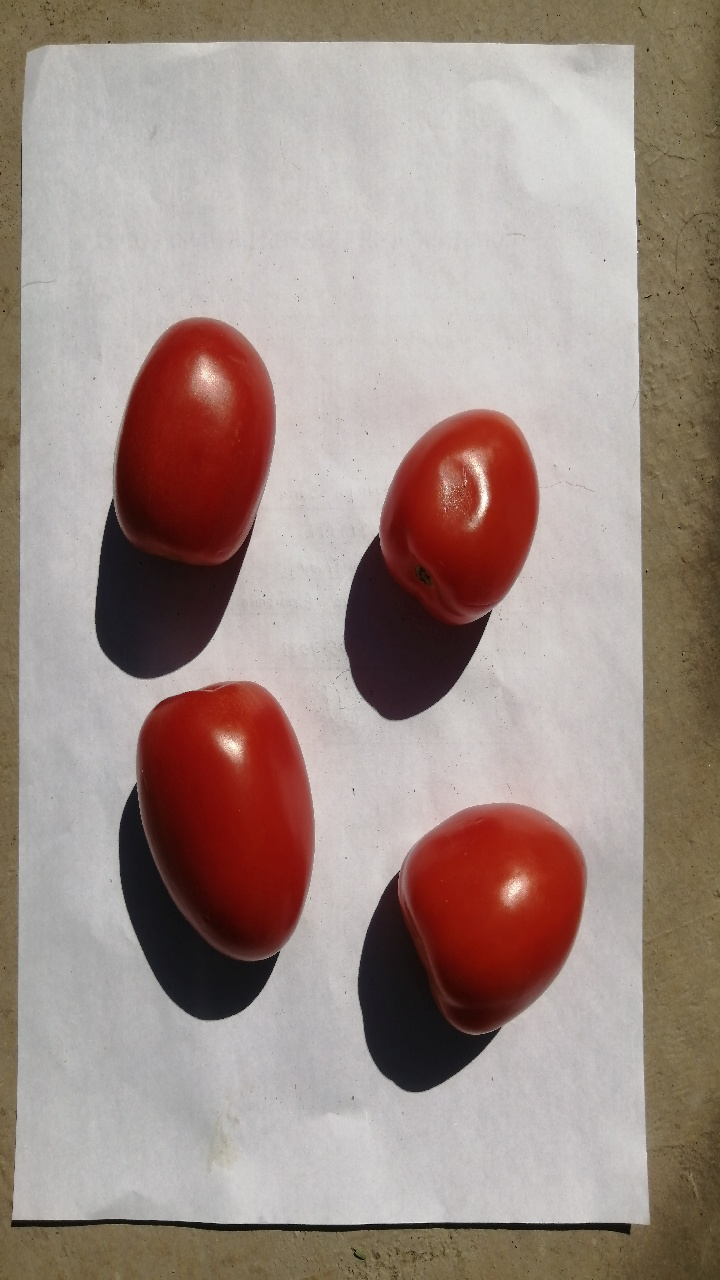tomateRojo: (351, 766, 608, 1052), (126, 655, 328, 985), (95, 289, 294, 582), (352, 374, 551, 635)
